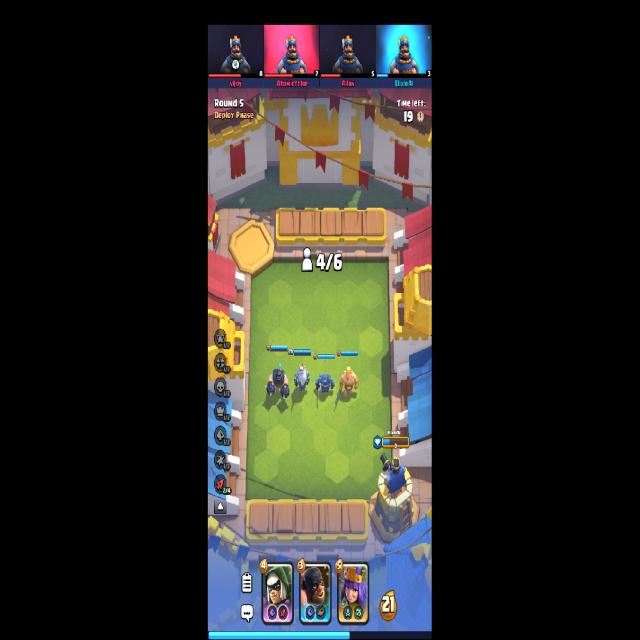card_archer_queen: (337, 562, 370, 624)
card_bandit: (261, 560, 294, 625)
card_executioner: (300, 560, 332, 625)
golden_knight: (335, 366, 359, 405)
mega_knight: (266, 362, 290, 400)
mini_pekka: (315, 374, 334, 400)
royal_ghost: (294, 364, 310, 394)
